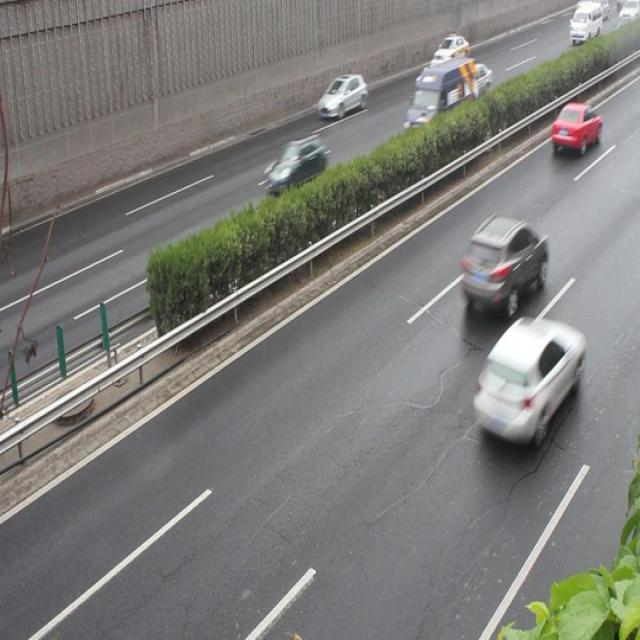car: (470, 316, 582, 446), (460, 214, 548, 310), (264, 135, 325, 194), (550, 103, 600, 154)
truck: (402, 60, 476, 142)
